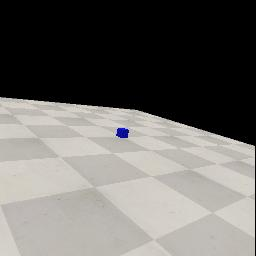box: (116, 128, 129, 138)
